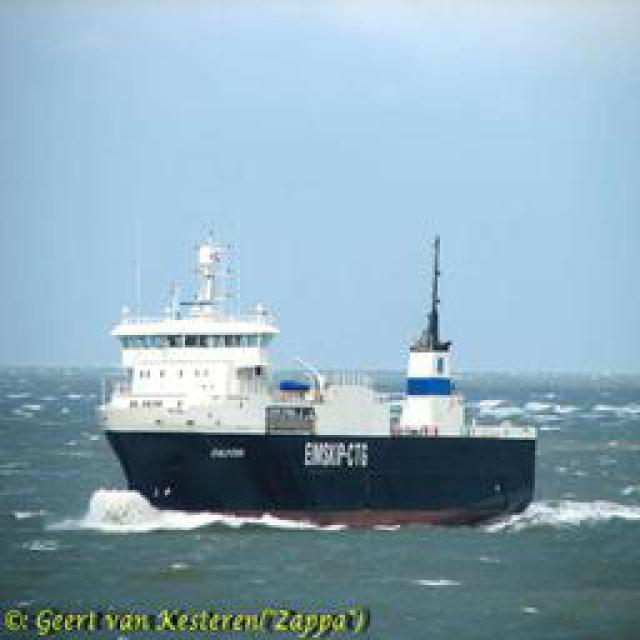Ship: (102, 220, 545, 518)
